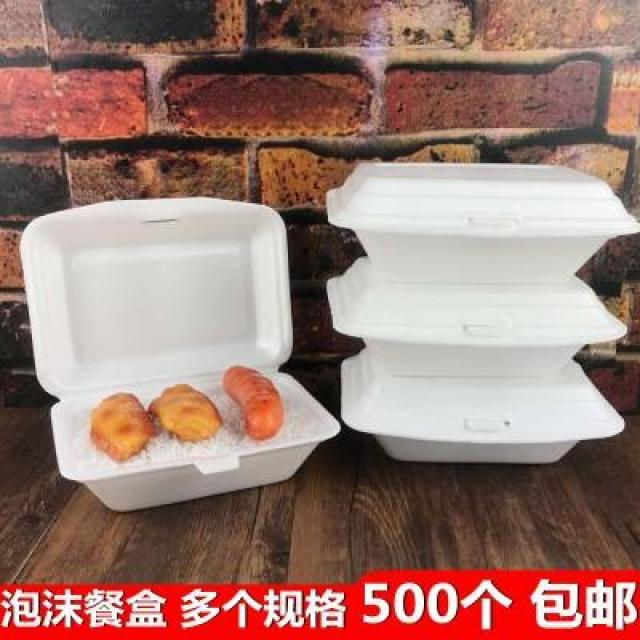styrofoam: (18, 194, 340, 512), (324, 158, 638, 466)
